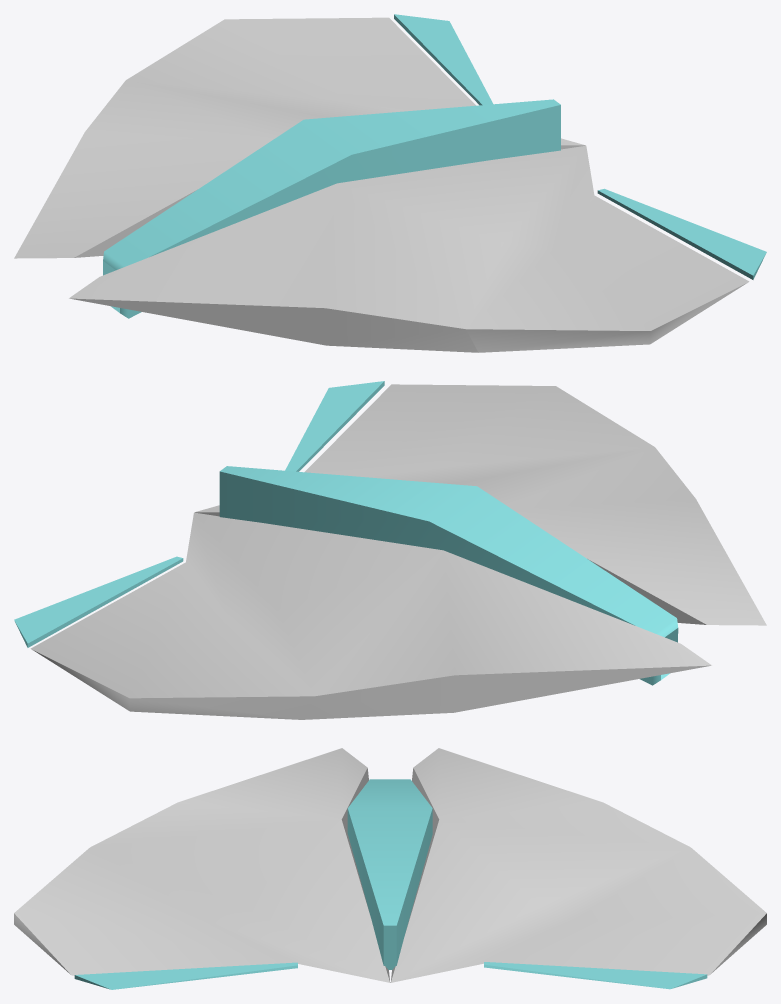
Rendered from birdi1.fbx.
3 views of the same model, one above another, from view 1: azimuth 30°, elevation 25°; view 2: azimuth 150°, elevation 25°; view 3: azimuth 270°, elevation 25° (orthographic). The views are drawn at different scales.
Visible parts, largest first — view 1: polySurface9, pCube1, pCube3, pCube2; view 2: polySurface9, pCube1, pCube2, pCube3; view 3: polySurface9, pCube1, pCube3, pCube2.
Boxes of the visible parts, x1,y1,x2,y2 form: polySurface9: (14, 17, 749, 352); pCube1: (103, 99, 560, 318); pCube3: (597, 188, 766, 279); pCube2: (394, 14, 493, 105); polySurface9: (30, 384, 766, 719); pCube1: (219, 466, 678, 685); pCube2: (14, 556, 183, 647); pCube3: (285, 381, 384, 471); polySurface9: (14, 748, 766, 982); pCube1: (347, 779, 432, 969); pCube3: (74, 962, 297, 989); pCube2: (484, 962, 707, 989).
Size of the model in its own units: 11.92 by 2.44 by 15.48.
